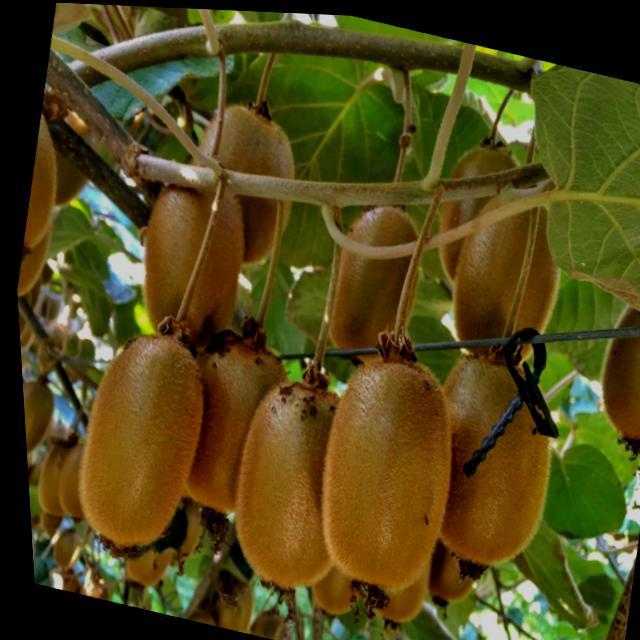kiwi: (284, 312, 479, 630), (49, 297, 223, 574), (204, 356, 380, 616), (397, 338, 572, 592), (159, 313, 308, 533), (435, 172, 585, 374), (115, 155, 256, 367), (167, 87, 313, 277), (310, 191, 435, 369), (420, 129, 539, 308), (579, 255, 640, 455)
